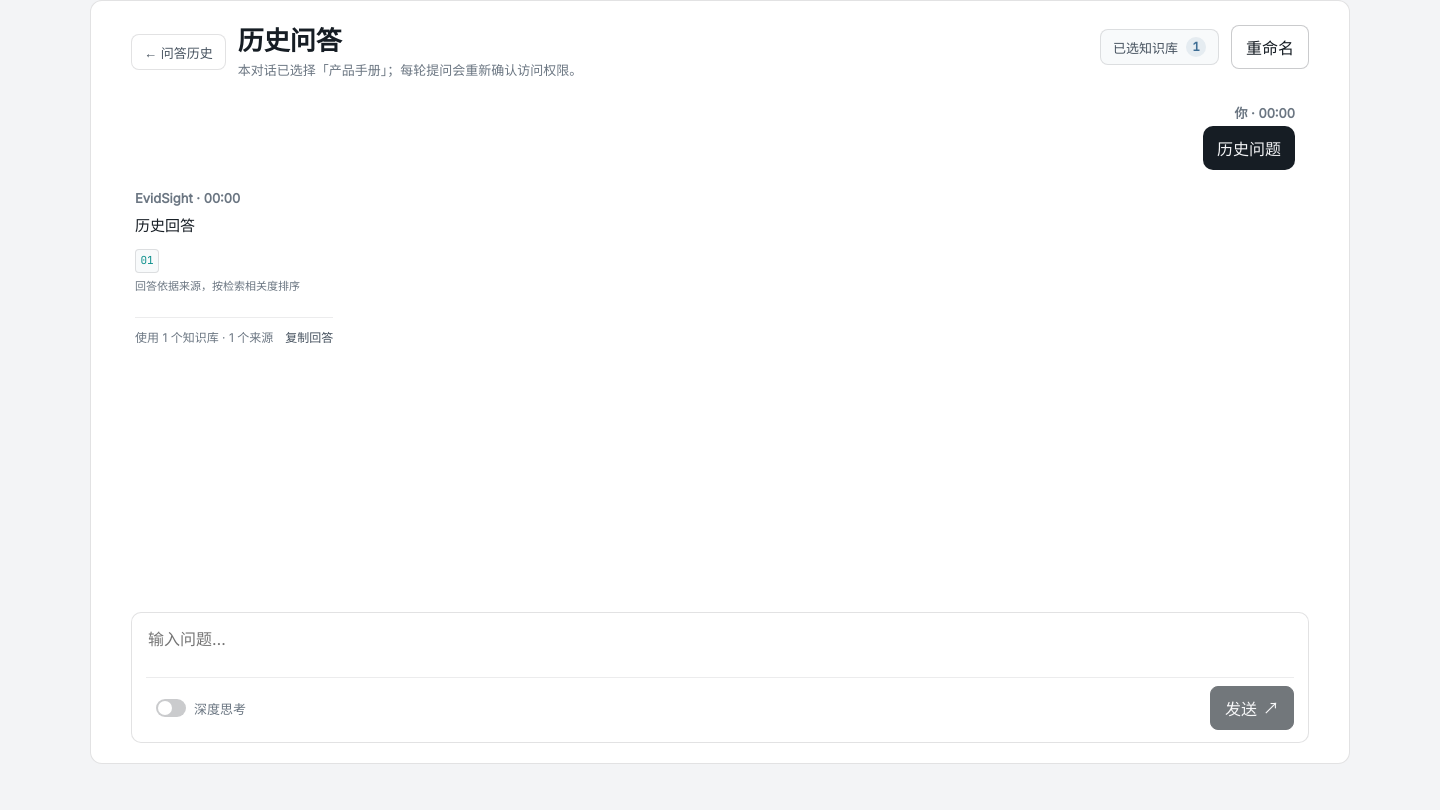
据见问答页 › 来源缺少 document_uuid 时降级展示且不提供进入切片入口
// 引用锚点展示该来源；点击序号打开来源详情抽屉
Click the button named "引用来源 1" at (147, 261), box [135,249,159,273]
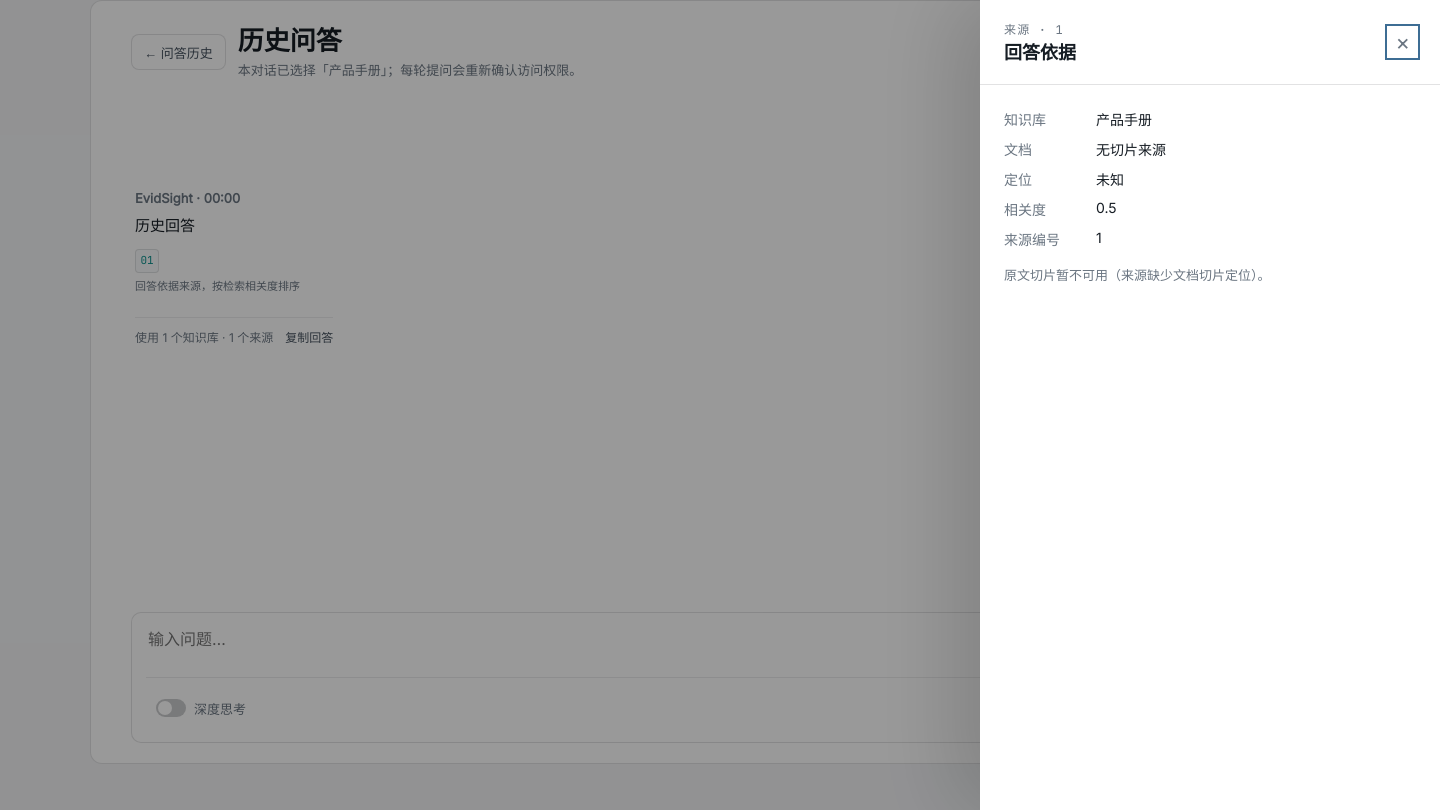
Check: the text "原文切片暂不可用（来源缺少文档切片定位）。" is shown, box [1004,267,1270,283]
